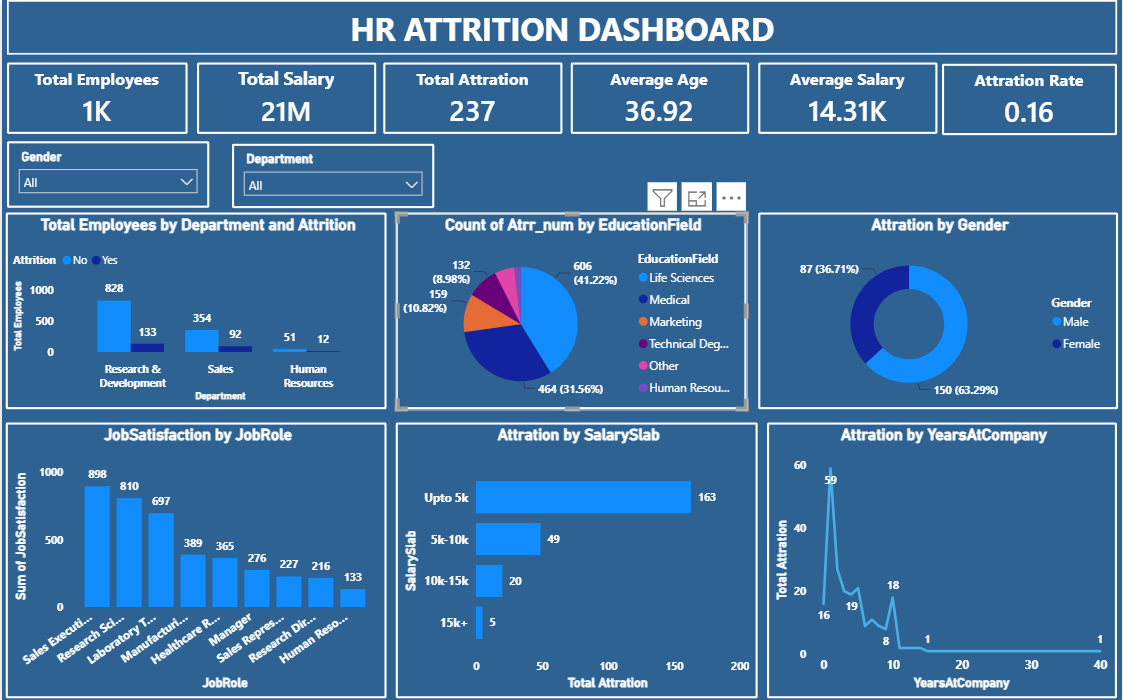

The page's visual inventory and layout, read from the dashboard file:
{"tool":"powerbi","page":{"name":"Dashboard","canvas":[1280,800],"ordinal":3},"visuals":[{"type":"pieChart","fields":{"Category":["HR_Analytics.EducationField"],"Y":["CountNonNull(HR_Analytics.Atrr_num)"]},"box":[450,243.2,401.1,225],"z":0},{"type":"clusteredColumnChart","fields":{"Category":["HR_Analytics.Department"],"Series":["HR_Analytics.Attrition"],"Y":["HR_Analytics.Total Employees"]},"box":[4.9,243.2,435.3,225],"z":500},{"type":"shape","box":[6.3,0,1268.8,62.5],"z":1000},{"type":"cardVisual","fields":{"Data":["HR_Analytics.Total Employees"]},"box":[5,71.2,206.2,81.2],"z":2000},{"type":"cardVisual","fields":{"Data":["HR_Analytics.Total Attration"]},"box":[435,71.2,205,81.2],"z":4000},{"type":"cardVisual","fields":{"Data":["HR_Analytics.Average Age"]},"box":[650,71.2,203.8,81.2],"z":5000},{"type":"cardVisual","fields":{"Data":["HR_Analytics.Attration Rate"]},"box":[1073.8,72.5,200,81.2],"z":6000},{"type":"cardVisual","fields":{"Data":["HR_Analytics.Average Salary"]},"box":[863.8,71.2,205,81.2],"z":7000},{"type":"slicer","fields":{"Values":["HR_Analytics.Department"]},"box":[262.2,164.4,231.1,73.4],"z":8000},{"type":"slicer","fields":{"Values":["HR_Analytics.Gender"]},"box":[5.1,162,231.1,75.8],"z":9000},{"type":"clusteredColumnChart","title":"JobSatisfaction by JobRole","fields":{"Category":["HR_Analytics.JobRole"],"Y":["Sum(HR_Analytics.JobSatisfaction)"]},"box":[4.9,482.9,435.3,315.5],"z":11000},{"type":"clusteredBarChart","title":"Attration by SalarySlab","fields":{"Category":["HR_Analytics.SalarySlab"],"Y":["HR_Analytics.Total Attration"]},"box":[450,482.9,413.3,315.5],"z":12000},{"type":"donutChart","title":"Attration by Gender","fields":{"Category":["HR_Analytics.Gender"],"Y":["HR_Analytics.Total Attration"]},"box":[864.1,243.2,410.9,225],"z":13000},{"type":"lineChart","title":"Attration by YearsAtCompany","fields":{"Category":["HR_Analytics.YearsAtCompany"],"Y":["HR_Analytics.Total Attration"]},"box":[874.3,482.9,399.9,315.5],"z":14000},{"type":"cardVisual","fields":{"Data":["HR_Analytics.Total Salary"]},"box":[222.8,70.9,205,81.2],"z":14001}]}

Visuals, with their boxes in screenshot pixels (x1, y1, x2, y2), scaled from the page's 1280x800 canvas onto the 1123x700 screenshot:
pieChart - HR_Analytics.EducationField x CountNonNull(HR_Analytics.Atrr_num): {"x1": 395, "y1": 213, "x2": 747, "y2": 410}
clusteredColumnChart - HR_Analytics.Department x HR_Analytics.Attrition: {"x1": 4, "y1": 213, "x2": 386, "y2": 410}
shape: {"x1": 6, "y1": 0, "x2": 1119, "y2": 55}
cardVisual - HR_Analytics.Total Employees: {"x1": 4, "y1": 62, "x2": 185, "y2": 133}
cardVisual - HR_Analytics.Total Attration: {"x1": 382, "y1": 62, "x2": 562, "y2": 133}
cardVisual - HR_Analytics.Average Age: {"x1": 570, "y1": 62, "x2": 749, "y2": 133}
cardVisual - HR_Analytics.Attration Rate: {"x1": 942, "y1": 63, "x2": 1118, "y2": 134}
cardVisual - HR_Analytics.Average Salary: {"x1": 758, "y1": 62, "x2": 938, "y2": 133}
slicer - HR_Analytics.Department: {"x1": 230, "y1": 144, "x2": 433, "y2": 208}
slicer - HR_Analytics.Gender: {"x1": 4, "y1": 142, "x2": 207, "y2": 208}
"JobSatisfaction by JobRole" clusteredColumnChart: {"x1": 4, "y1": 423, "x2": 386, "y2": 699}
"Attration by SalarySlab" clusteredBarChart: {"x1": 395, "y1": 423, "x2": 757, "y2": 699}
"Attration by Gender" donutChart: {"x1": 758, "y1": 213, "x2": 1119, "y2": 410}
"Attration by YearsAtCompany" lineChart: {"x1": 767, "y1": 423, "x2": 1118, "y2": 699}
cardVisual - HR_Analytics.Total Salary: {"x1": 195, "y1": 62, "x2": 375, "y2": 133}
